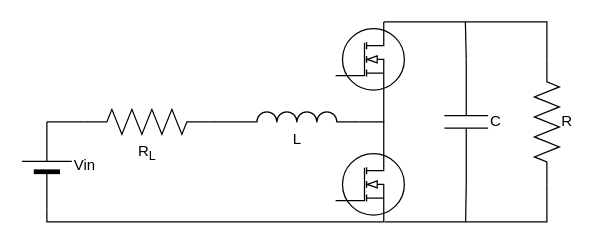
This 595x245 diagram has some shape labels left out. Here are the shapes that lost their labels. From the top down, the centre of each, then its label:
the point at 369,59: S high
the point at 369,184: S low
